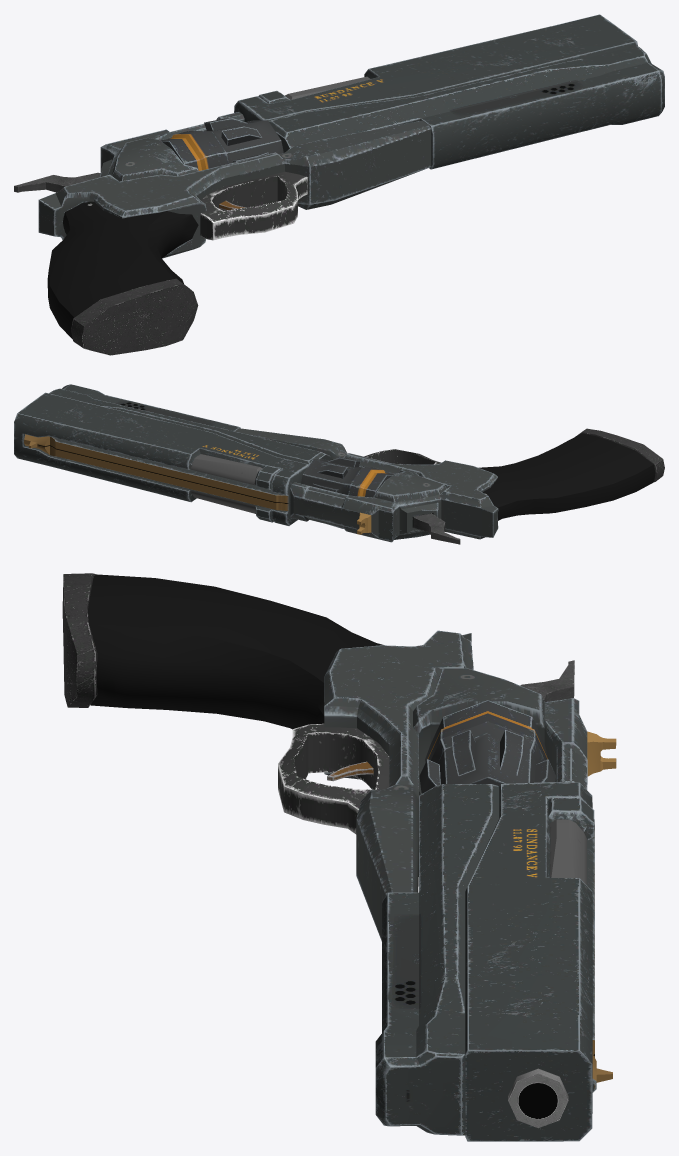
File: sundance.obj
3 renders of one model, top to bottom at view 1: azimuth 30°, elevation 25°; view 2: azimuth 150°, elevation 25°; view 3: azimuth 270°, elevation 25°, orthographic. The views are drawn at different scales.
Visible parts, largest first — view 1: Barrelmain1, Framemain1, Handle1, Gripbottom1, Triggerguard1, Cylindermain1, Hammer1; view 2: Barrelmain1, Framemain1, Handle1, Cylindermain1, Gripbottom1, Triggerguard1, Hammer1; view 3: Barrelmain1, Handle1, Framemain1, Cylindermain1, Triggerguard1, Gripbottom1, Muzzle1, Hammer1.
Boxes of the visible parts, x1,y1,x2,y2 form: Barrelmain1: (234,14,664,169); Framemain1: (38,112,431,258); Handle1: (47,201,198,338); Gripbottom1: (71,278,198,355); Triggerguard1: (200,171,307,240); Cylindermain1: (160,118,283,170); Hammer1: (14,172,100,192); Barrelmain1: (14,384,330,525); Framemain1: (235,428,498,542); Handle1: (479,433,655,520); Cylindermain1: (301,457,393,528); Gripbottom1: (575,428,664,482); Triggerguard1: (364,449,440,464); Hammer1: (413,513,460,544); Barrelmain1: (375,782,612,1141); Handle1: (88,574,384,729); Framemain1: (324,630,616,941); Cylindermain1: (419,700,555,793); Triggerguard1: (278,723,389,834); Gripbottom1: (62,573,97,707); Muzzle1: (508,1068,568,1128); Hammer1: (520,660,574,701).
Bounding box in the file's own units: 33.19 × 3.75 × 15.19.
Materials: 9 (9 with a texture image).
